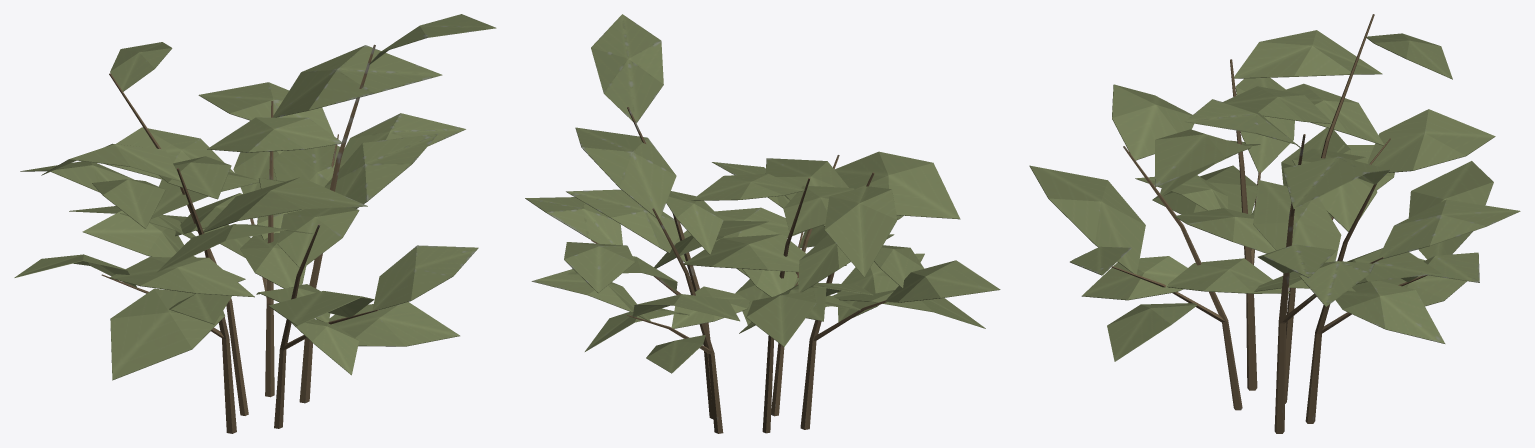
The model's file is forest_undergrowth_B.glb.
3 renders of one model, left to right at view 1: azimuth 30°, elevation 25°; view 2: azimuth 150°, elevation 25°; view 3: azimuth 270°, elevation 25°, orthographic. The views are drawn at different scales.
Visible parts, largest first — view 1: UndergrowthB; view 2: UndergrowthB; view 3: UndergrowthB.
Part boxes in pixels (x1=…): UndergrowthB: x1=14, y1=14, x2=496, y2=433; UndergrowthB: x1=525, y1=14, x2=1000, y2=433; UndergrowthB: x1=1029, y1=14, x2=1520, y2=433.
Size of the model in its own units: 1.3 by 0.95 by 1.1.
1 material, 1 textured.
